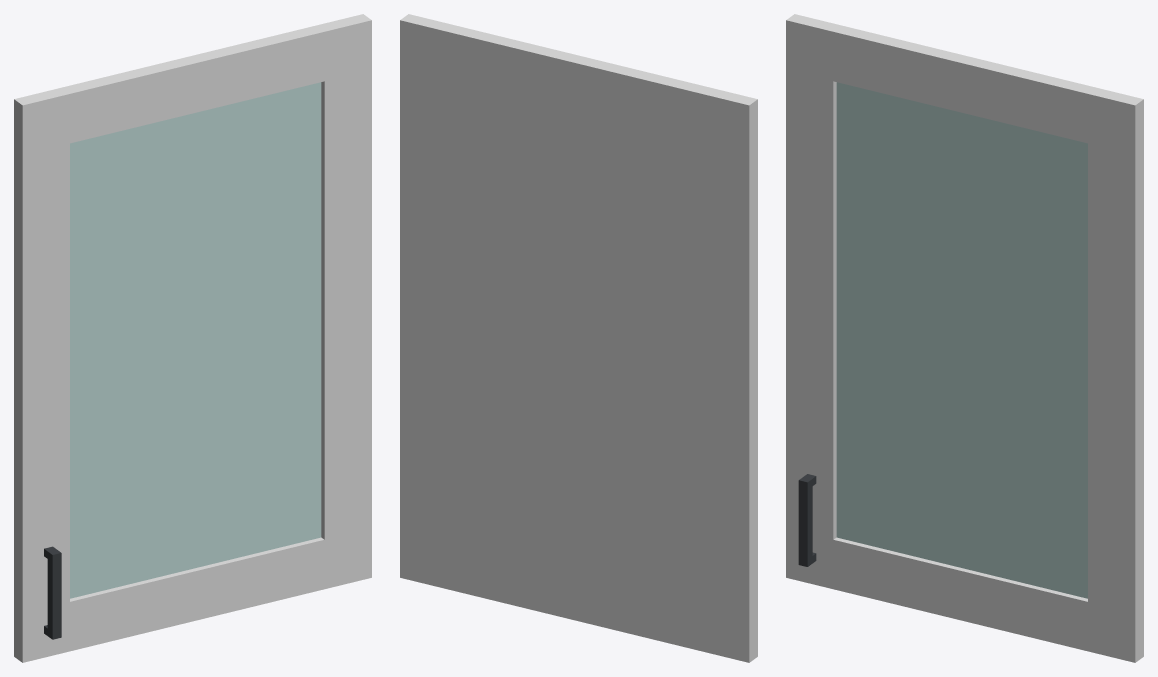
Rendered from BathroomDoor_C1_04.fbx.
3 views of the same model, side by side, from view 1: azimuth 30°, elevation 25°; view 2: azimuth 150°, elevation 25°; view 3: azimuth 330°, elevation 25° (orthographic).
Visible parts, largest first — view 1: BathroomDoor_C1_04; view 2: BathroomDoor_C1_04; view 3: BathroomDoor_C1_04.
Part boxes in pixels (left/top/right/bottom): BathroomDoor_C1_04: left=14, top=14, right=371, bottom=662; BathroomDoor_C1_04: left=400, top=14, right=757, bottom=662; BathroomDoor_C1_04: left=786, top=14, right=1143, bottom=662.
Bounding box in the file's own units: 59 × 90 × 5.03.
